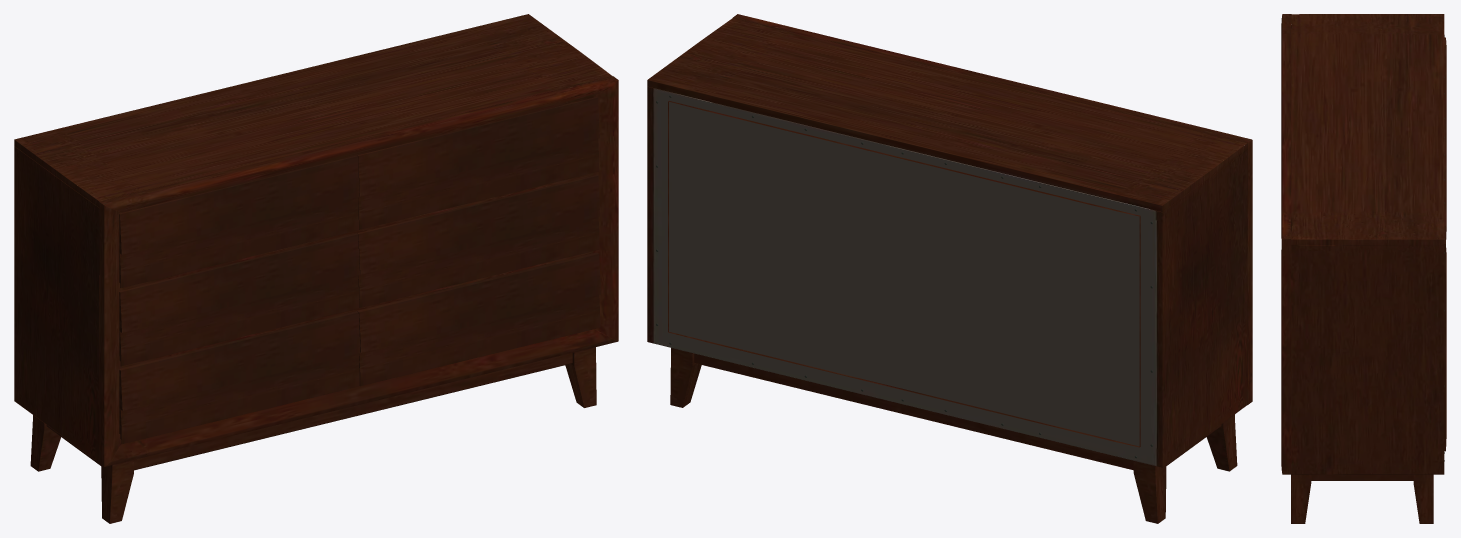
File: abo-B0725Z23G4.glb
The picture shows the model from 3 angles, left to right: view 1: azimuth 30°, elevation 25°; view 2: azimuth 150°, elevation 25°; view 3: azimuth 270°, elevation 25°; orthographic projection. The views are drawn at different scales.
Size of the model in its own units: 1.61 by 0.971 by 0.499.
1 material, 1 textured.
